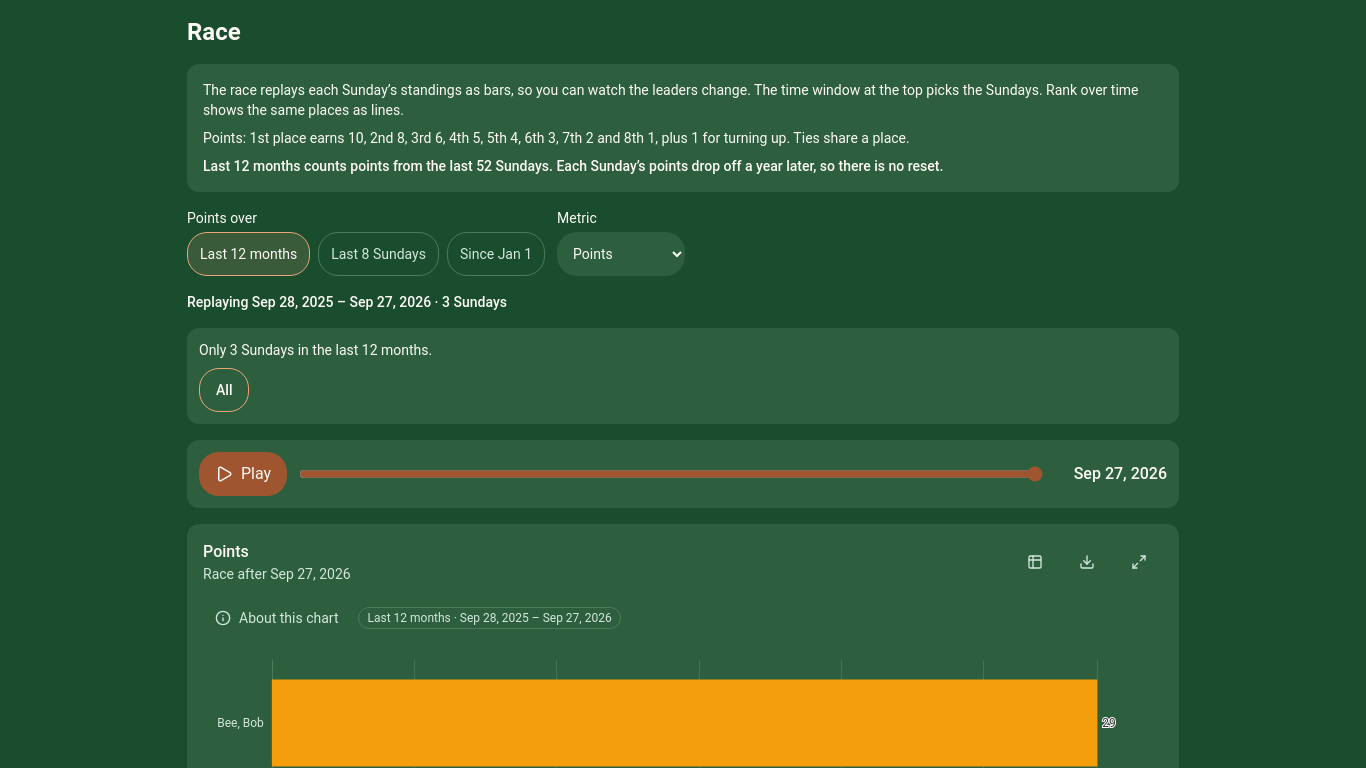
Scenario: RacePage › full data in fullscreen and CSV › keeps the card when the full fetch fails
The width and height of the screenshot is (1366, 768).
Click the button named "Fullscreen": point(1139, 562) [1115,540,1163,584]
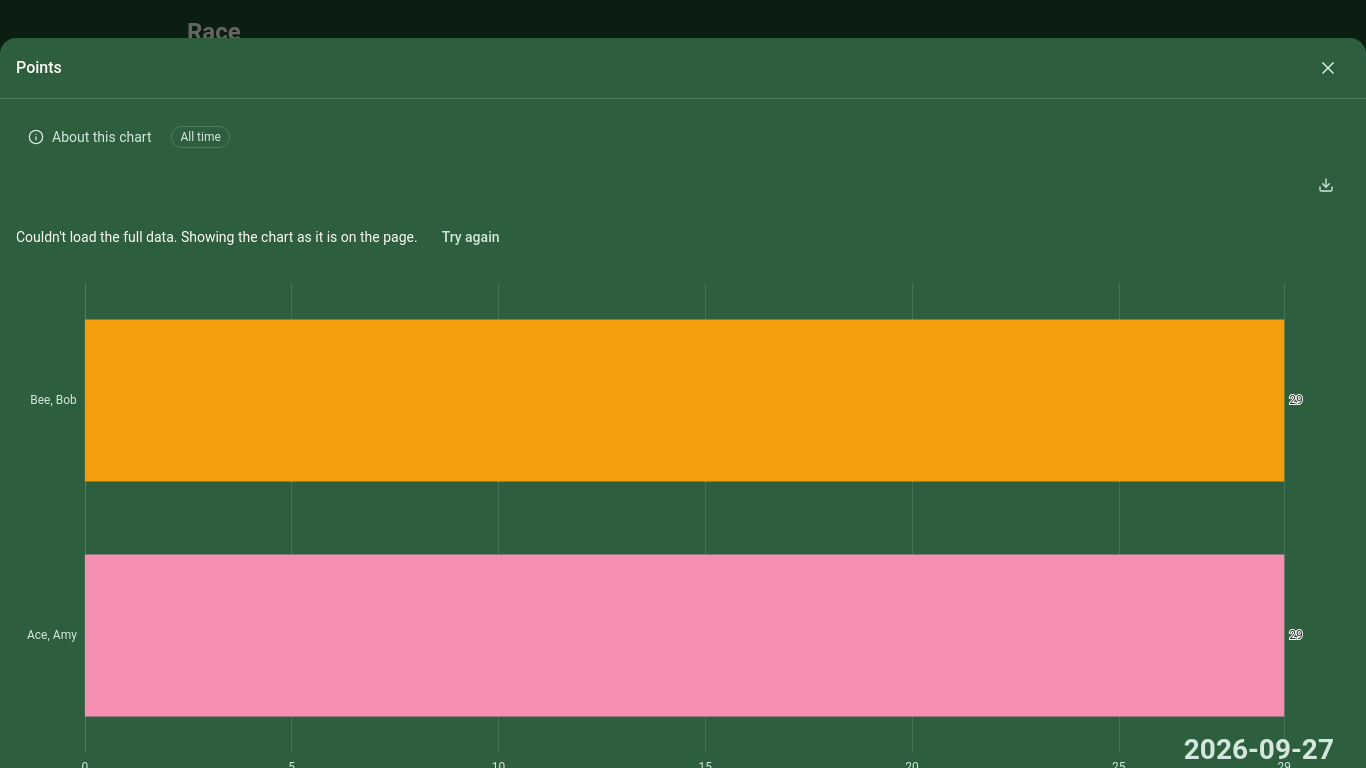
Now the message shows "Couldn't load the full data.", box [16,229,418,245]
